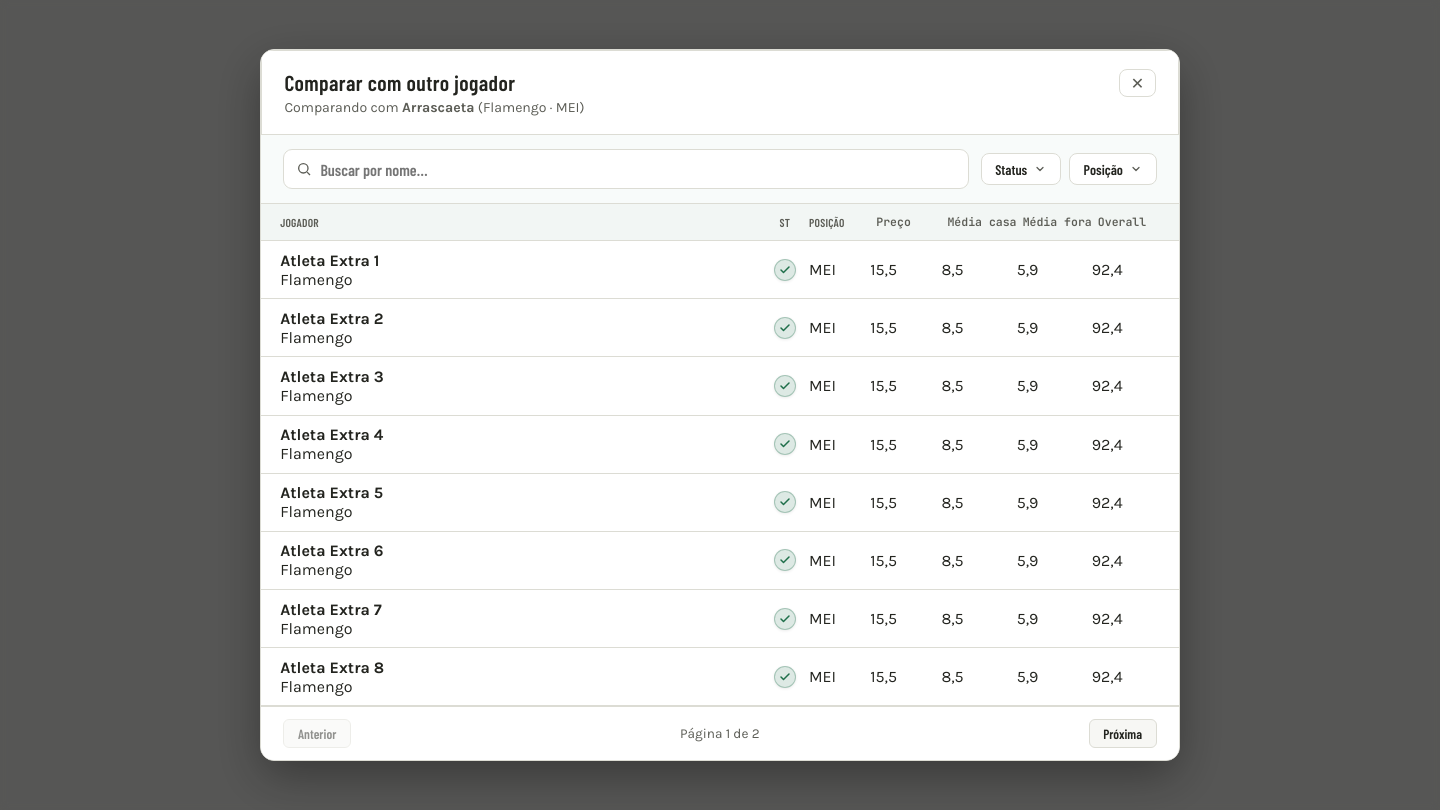
ModalCompararJogador › suporta paginação quando há mais de 15 atletas
Expected: the text "Atleta Extra 1" is shown, [280,250,380,270]
Expected: the text "Atleta Extra 16" is not shown
Click the button "Próxima" at (1123, 734), box [1089,719,1157,748]
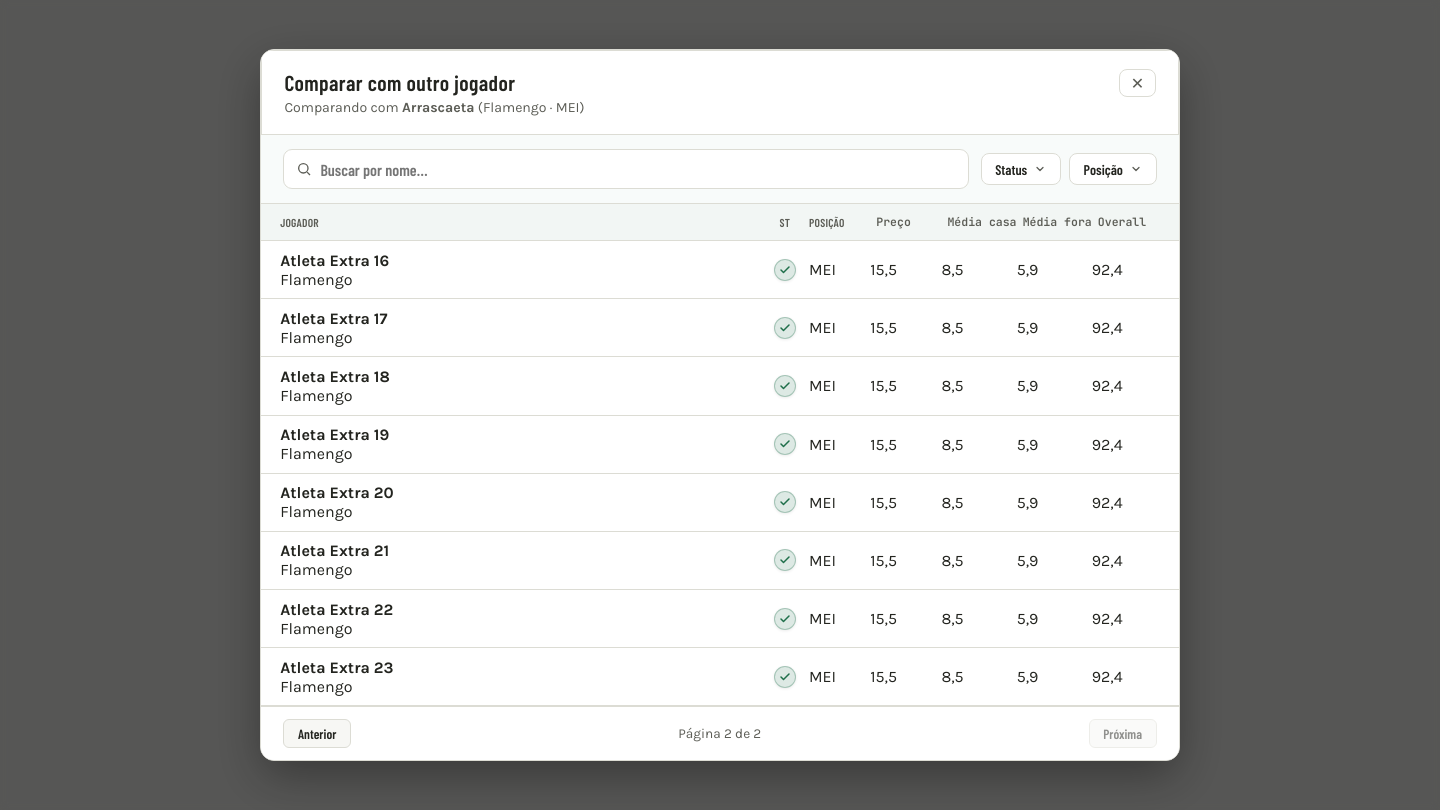
Expected: the text "Página 2 de 2" is shown, [678,726,761,741]
Expected: the text "Atleta Extra 16" is shown, [280,250,389,270]
Click the button "Anterior" at (317, 734), box [283,719,351,748]
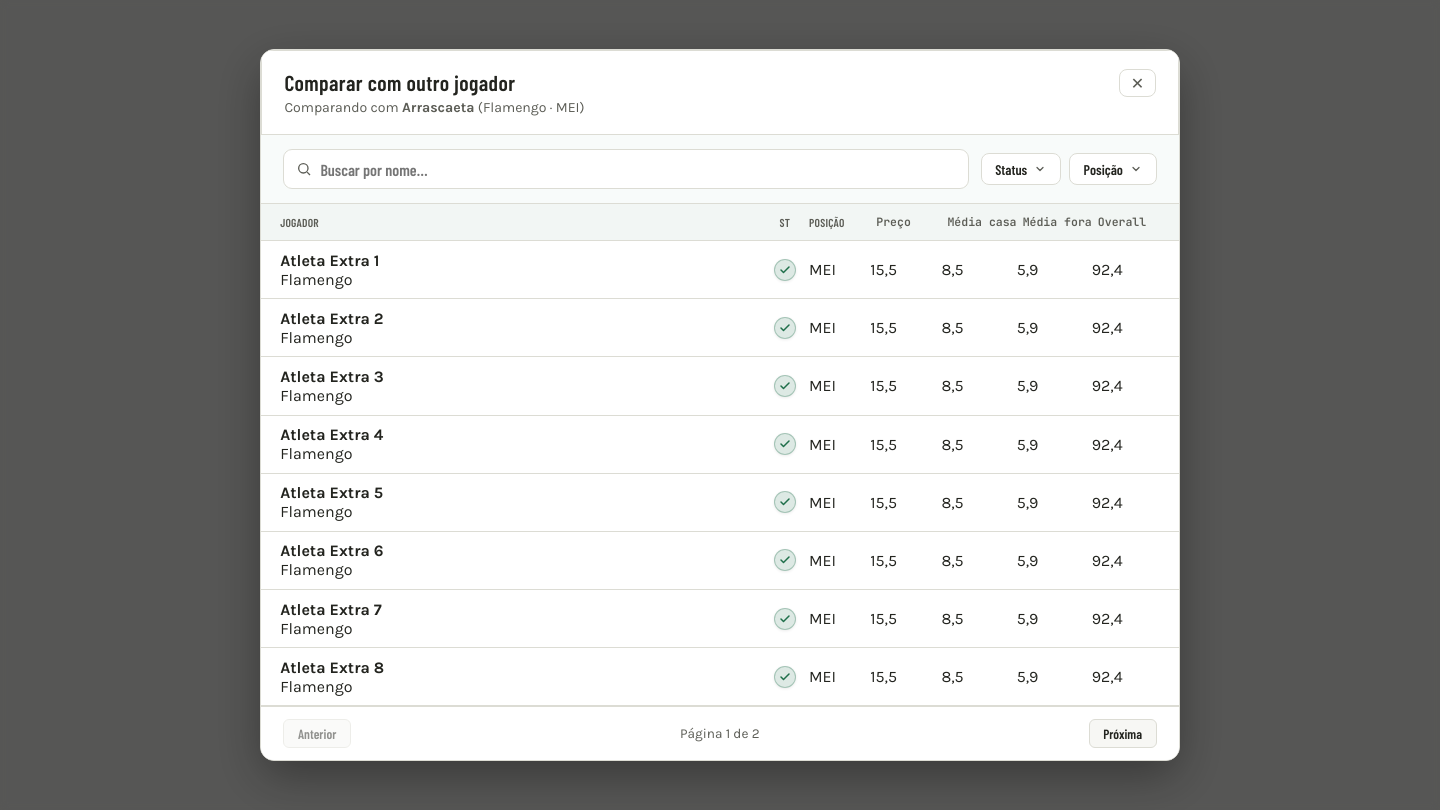
Expected: the text "Página 1 de 2" is shown, [680,726,760,741]
